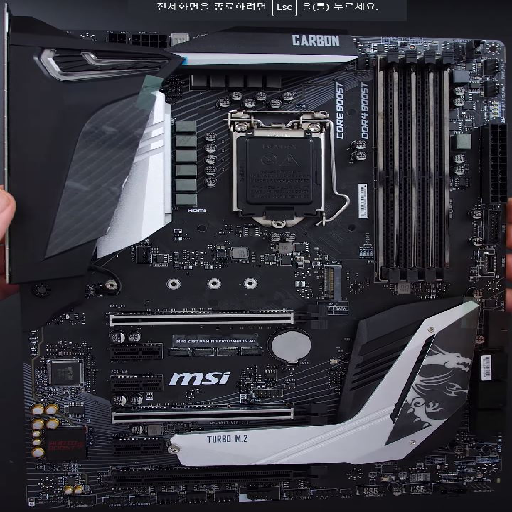CPU: (227, 110, 338, 230)
GPU: (108, 310, 327, 331), (110, 406, 328, 426)
MOTHERBOARD: (6, 5, 505, 506)
RAM: (371, 49, 458, 288)
SSD: (323, 265, 342, 303)
